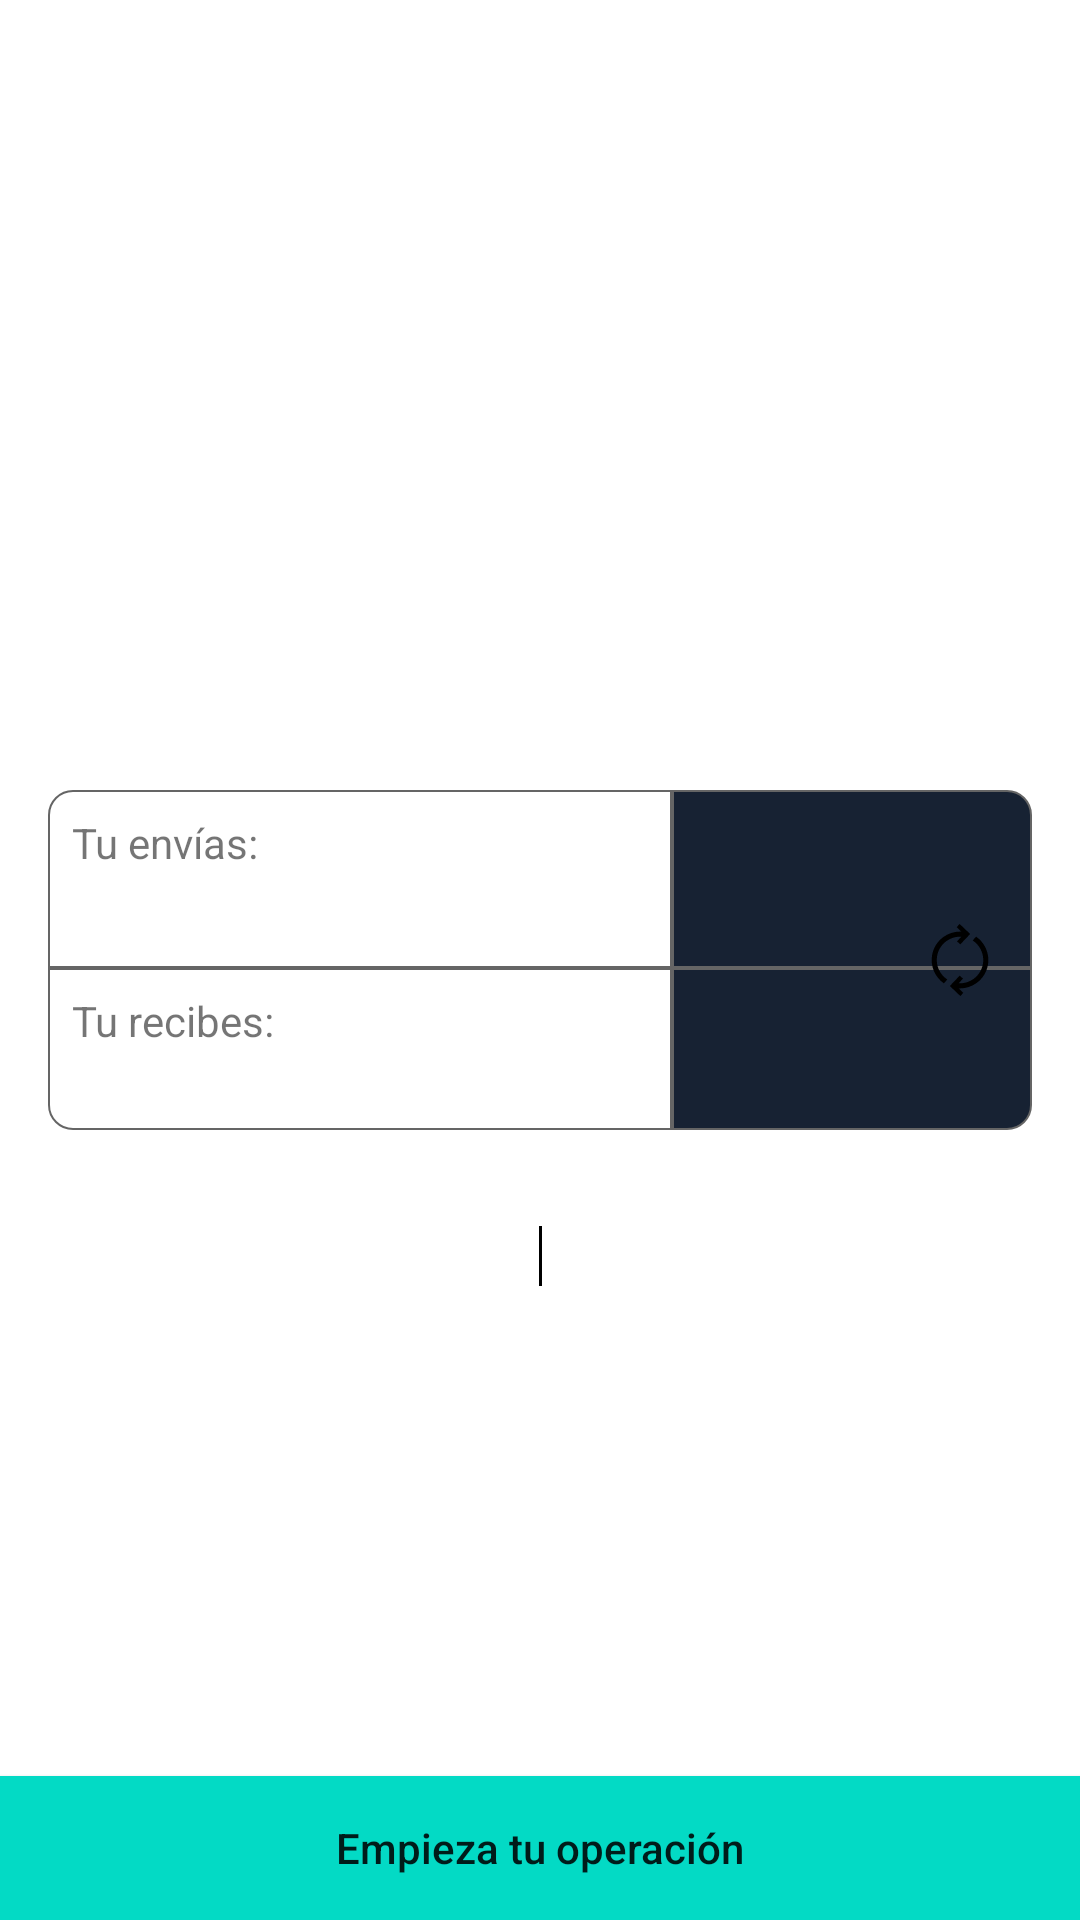

Icon bounding boxes for this 1080px×1920px phone screenshot, format (x1, y1, x2, y2):
synchronize: (912, 924, 1008, 996)
